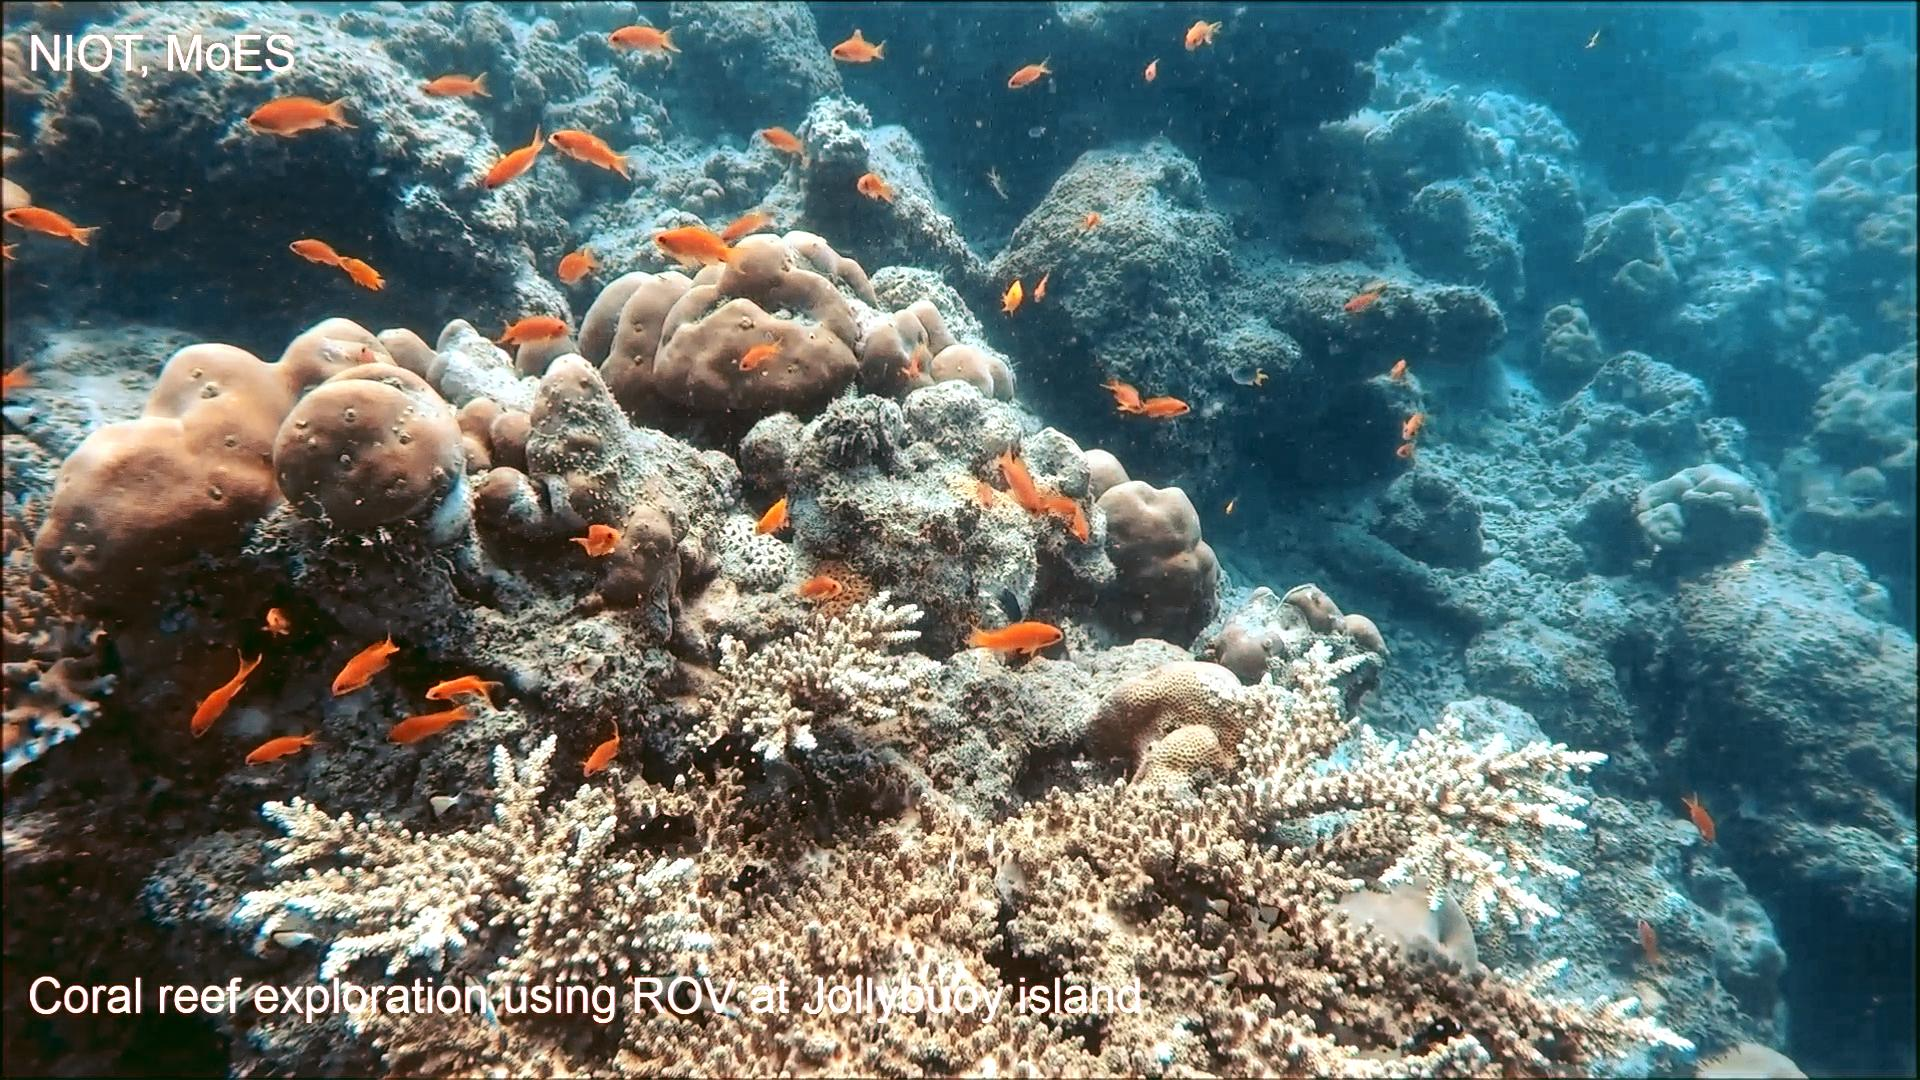Porites-Porites pukoensis: (28, 313, 469, 620), (541, 219, 1025, 434)
